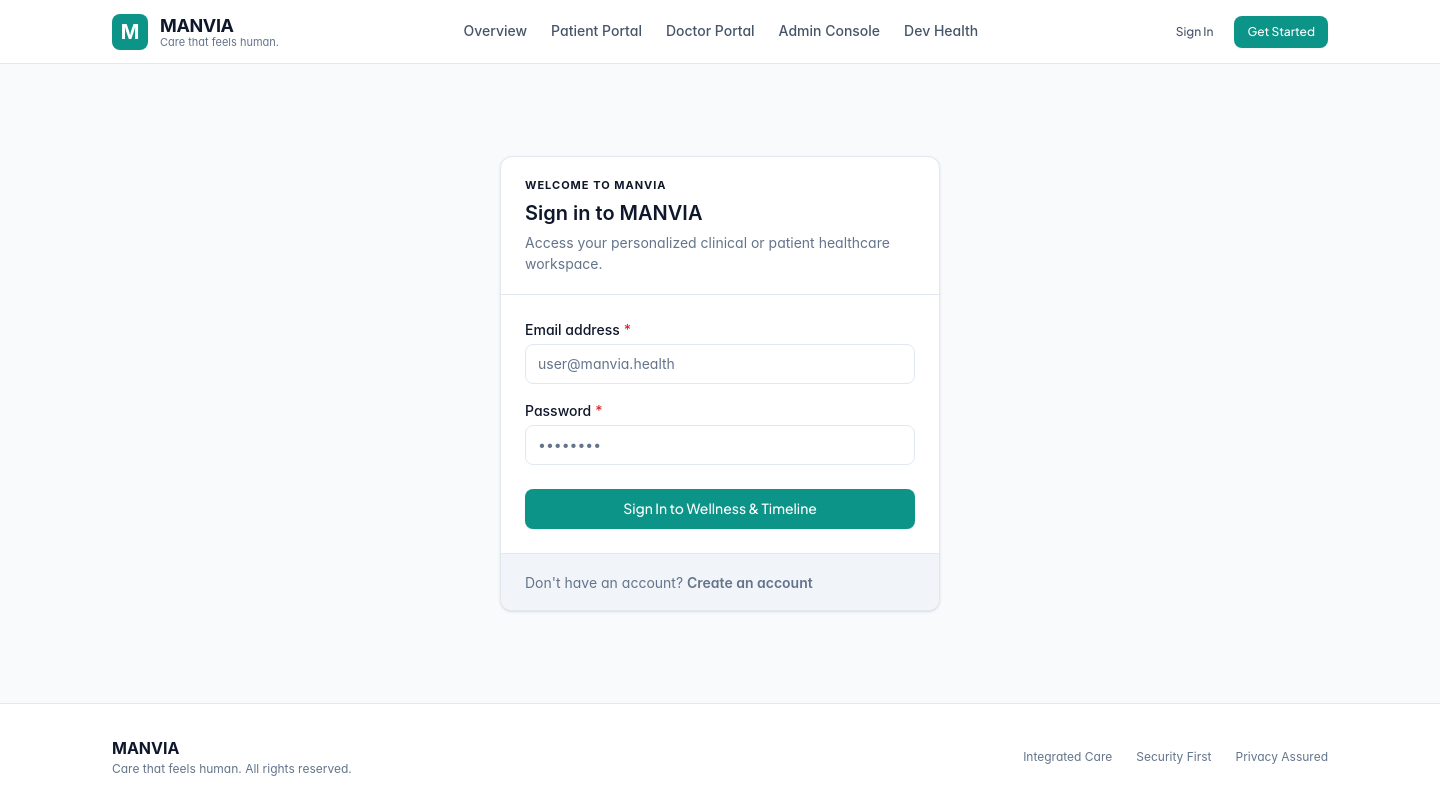
Test: MANVIA Login View Component › shows client-side validation error when entering an invalid email
In the field labelled "Email address *": [720, 364] box [525,344,915,384], type "not-an-email"
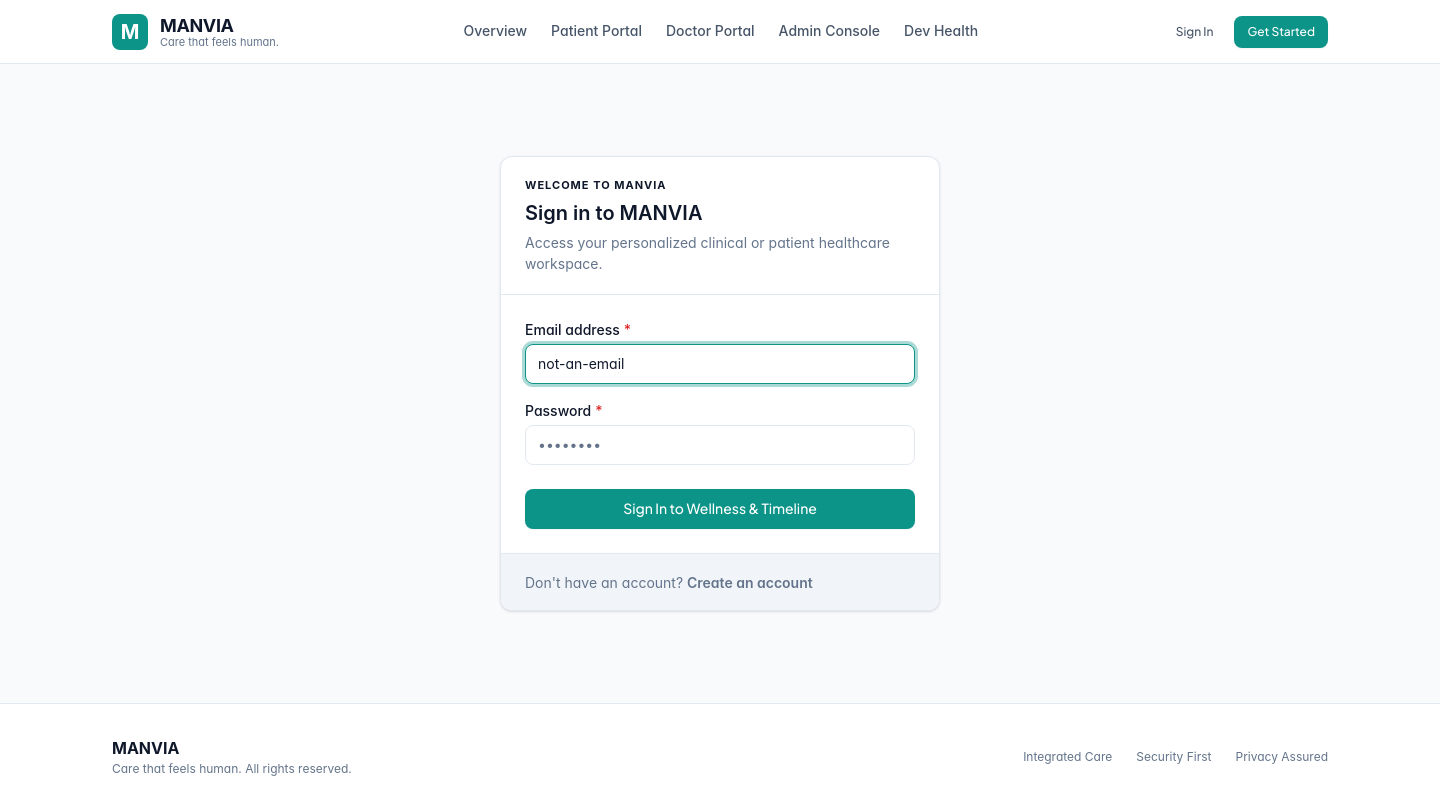
In the password field labelled "Password *": [720, 445] box [525,425,915,465], type "Password123!"
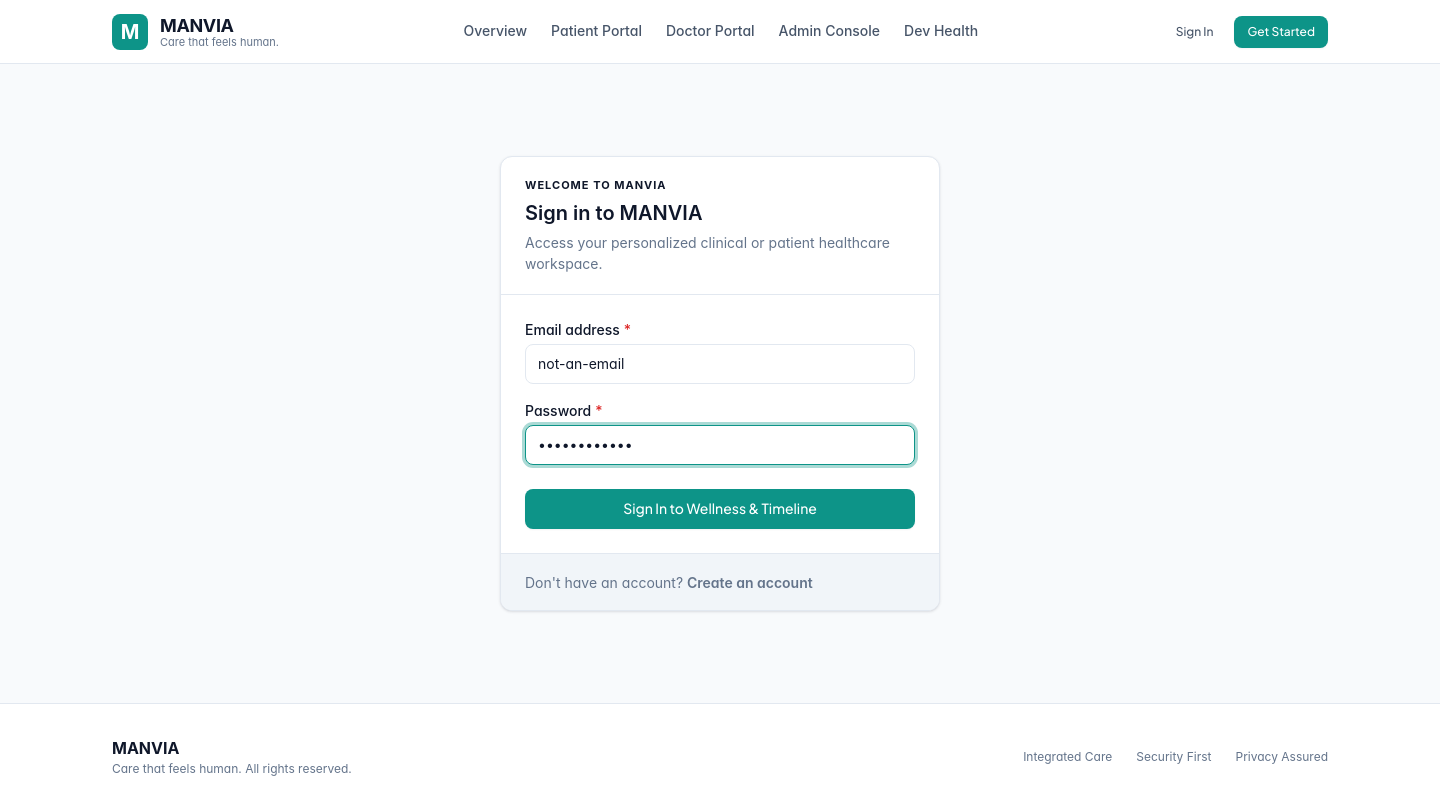
Click the button with test id "login-submit-button": [720, 509] box [525,489,915,529]
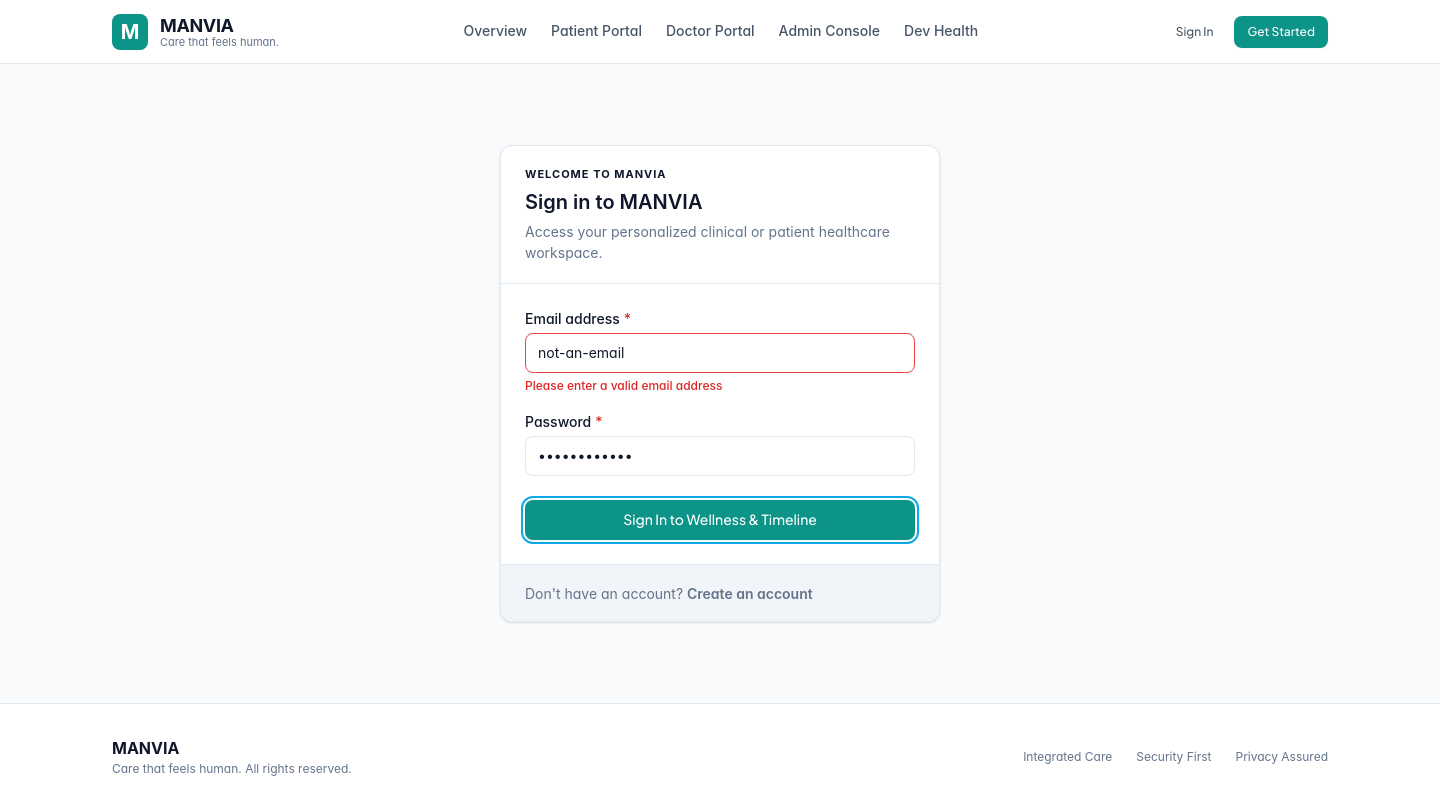
Expected: the text "Please enter a valid email address" is shown, [525,378,722,393]
